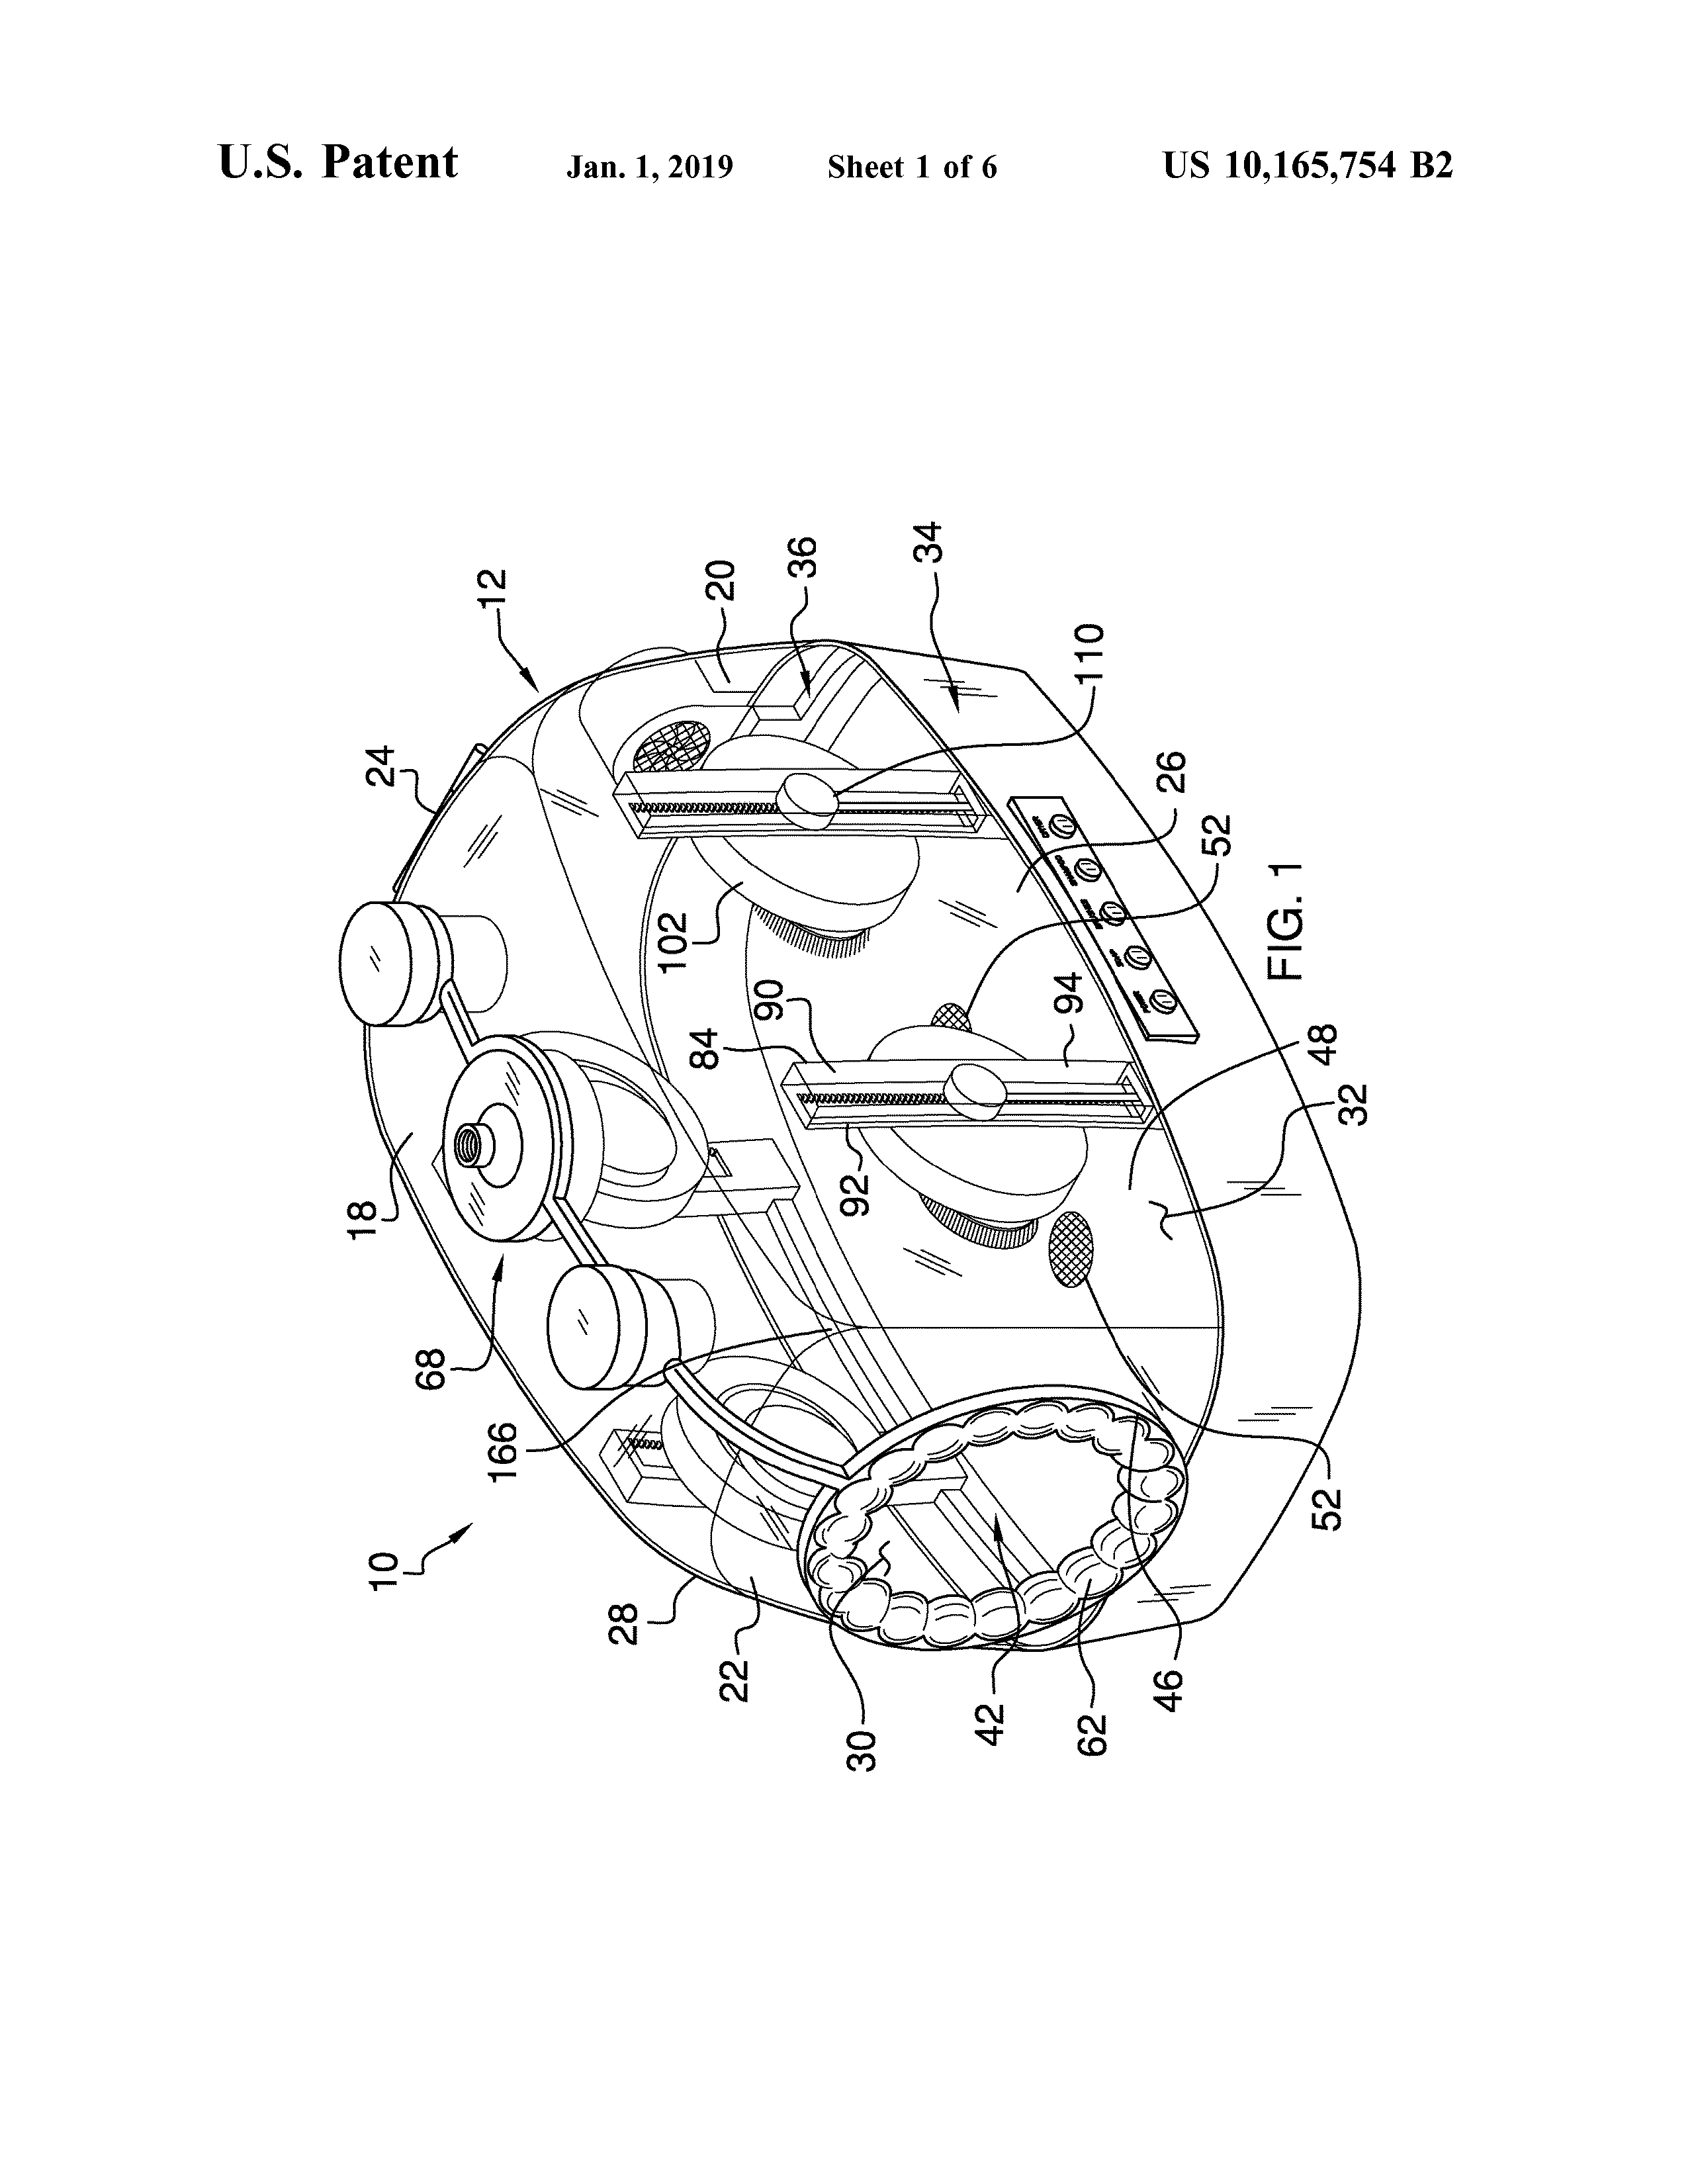patent image: (250, 480, 1455, 1811)
